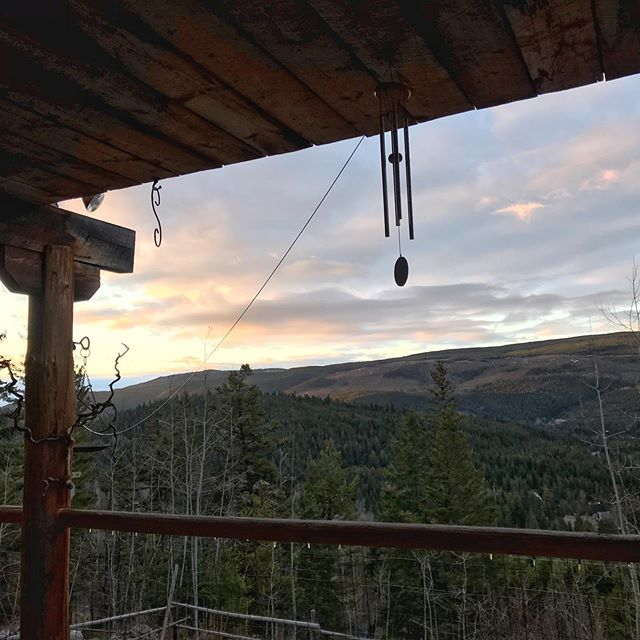sky: (87, 104, 640, 372)
vegetation: (91, 361, 640, 627)
